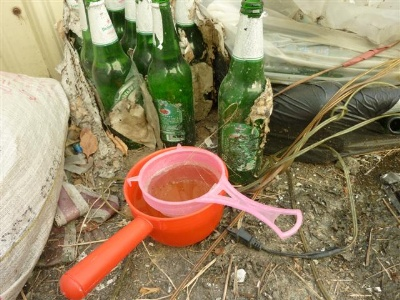bottle: (216, 1, 276, 186), (81, 1, 148, 149), (144, 1, 197, 146)
bowl: (123, 146, 225, 248), (138, 147, 226, 216)
